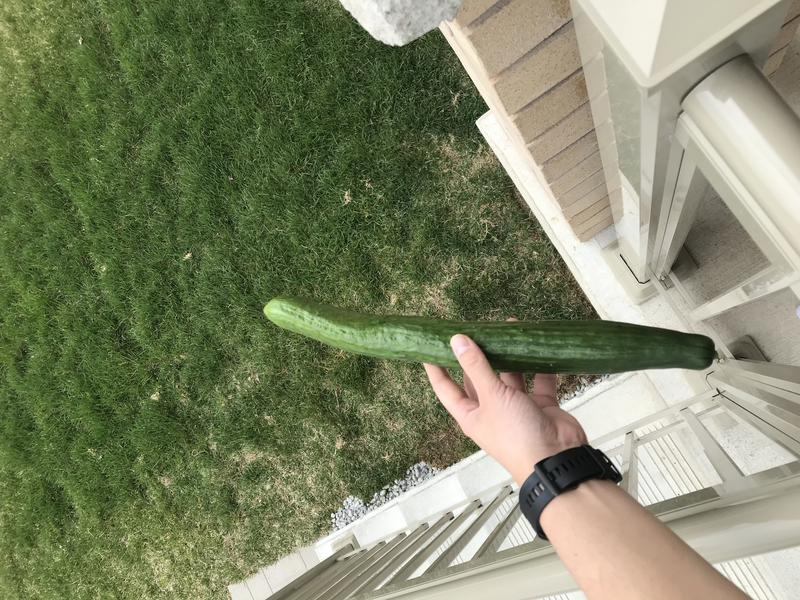cucumber: (262, 281, 732, 393)
